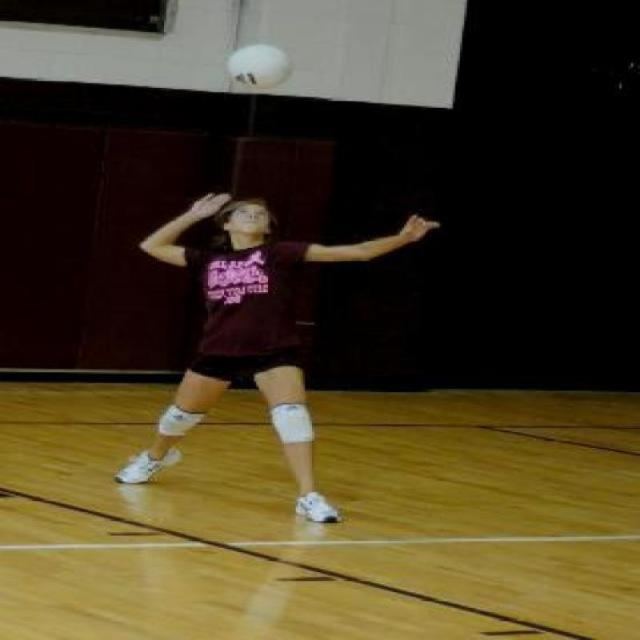volleyball: (220, 41, 301, 94)
